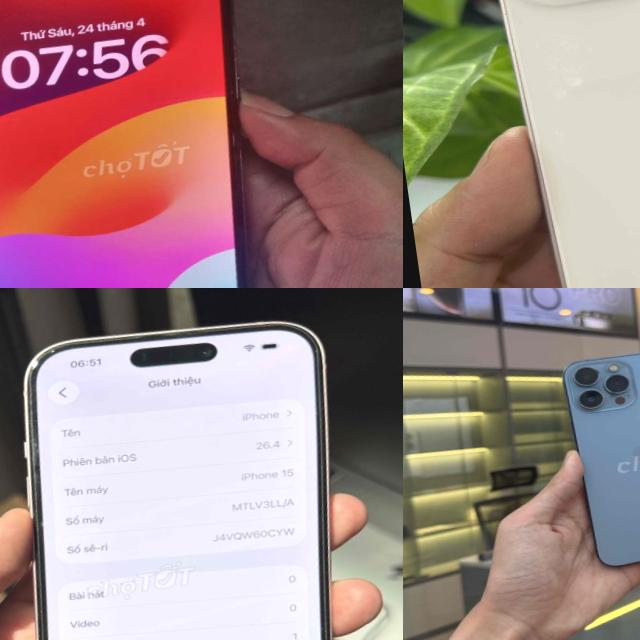gen_12_13: (0, 0, 294, 288), (473, 0, 640, 288), (563, 336, 640, 579)
gen_15: (0, 297, 387, 640)
